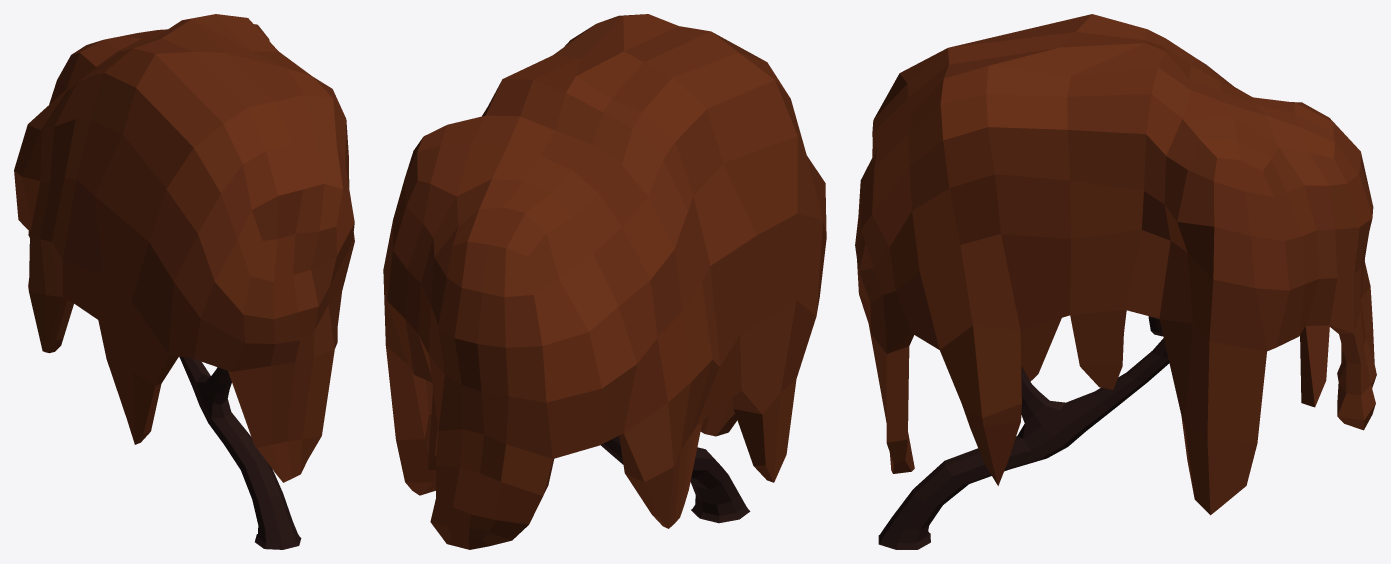
File: Willow_Autumn_2.obj
3 renders of one model, left to right at view 1: azimuth 30°, elevation 25°; view 2: azimuth 150°, elevation 25°; view 3: azimuth 270°, elevation 25°, orthographic. The views are drawn at different scales.
Visible parts, largest first — view 1: Willow_Autumn_2_Cube.087; view 2: Willow_Autumn_2_Cube.087; view 3: Willow_Autumn_2_Cube.087.
Part boxes in pixels (x1=…): Willow_Autumn_2_Cube.087: x1=14, y1=14, x2=354, y2=549; Willow_Autumn_2_Cube.087: x1=383, y1=14, x2=826, y2=549; Willow_Autumn_2_Cube.087: x1=855, y1=14, x2=1376, y2=549.
Size of the model in its own units: 1.95 by 3.32 by 3.11.
